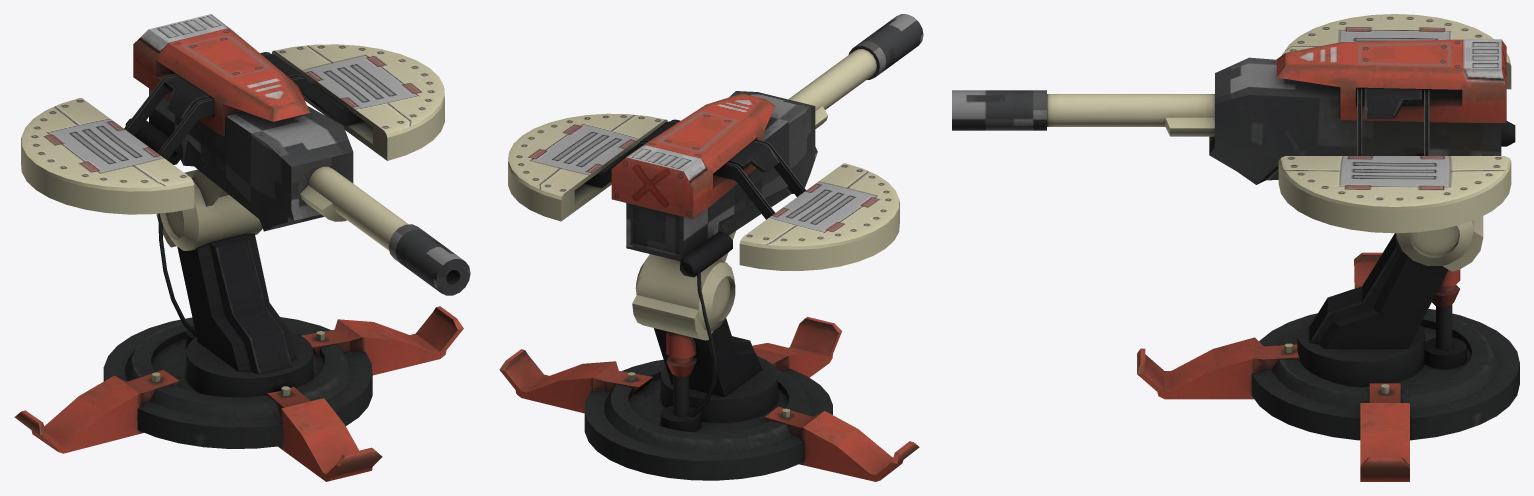
File: turret.glb
3 renders of one model, left to right at view 1: azimuth 30°, elevation 25°; view 2: azimuth 150°, elevation 25°; view 3: azimuth 270°, elevation 25°, orthographic. The views are drawn at different scales.
Parts seen in each view (by area): view 1: Head, Base, Barrel; view 2: Head, Base, Barrel; view 3: Head, Base, Barrel.
Boxes of the visible parts, x1,y1,x2,y2 form: Head: (21,14,444,250); Base: (14,213,463,481); Barrel: (300,166,470,295); Head: (508,91,899,340); Base: (499,273,919,481); Barrel: (788,14,923,128); Head: (1209,14,1515,271); Base: (1137,233,1519,481); Barrel: (952,90,1214,136).
Size of the model in its own units: 2.75 by 2.04 by 3.14.
1 material, 1 textured.
